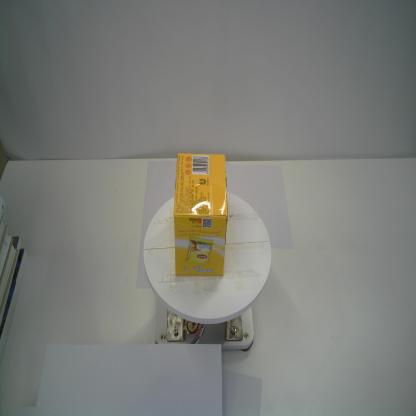Instant Drink: (172, 149, 230, 279)
